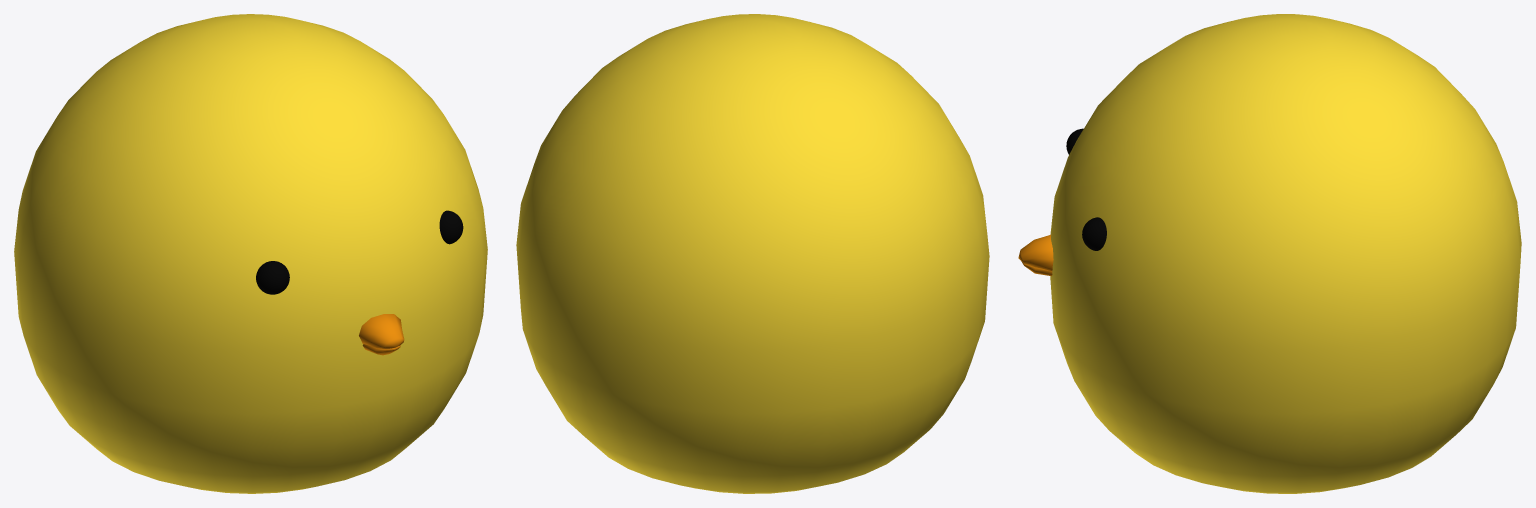
File: Plain Chick.fbx
3 renders of one model, left to right at view 1: azimuth 30°, elevation 25°; view 2: azimuth 150°, elevation 25°; view 3: azimuth 270°, elevation 25°, orthographic.
Parts seen in each view (by area): view 1: Chick4, ChickEyes4, ChickBeak4; view 2: Chick4; view 3: Chick4, ChickBeak4, ChickEyes4.
Boxes of the visible parts, left/top/right/bottom form: Chick4: left=14, top=14, right=487, bottom=493; ChickEyes4: left=256, top=210, right=463, bottom=294; ChickBeak4: left=359, top=314, right=404, bottom=355; Chick4: left=516, top=14, right=989, bottom=493; Chick4: left=1050, top=14, right=1521, bottom=493; ChickBeak4: left=1018, top=234, right=1053, bottom=276; ChickEyes4: left=1066, top=128, right=1106, bottom=250.
Bounding box in the file's own units: 21.04 × 20.75 × 22.4.
